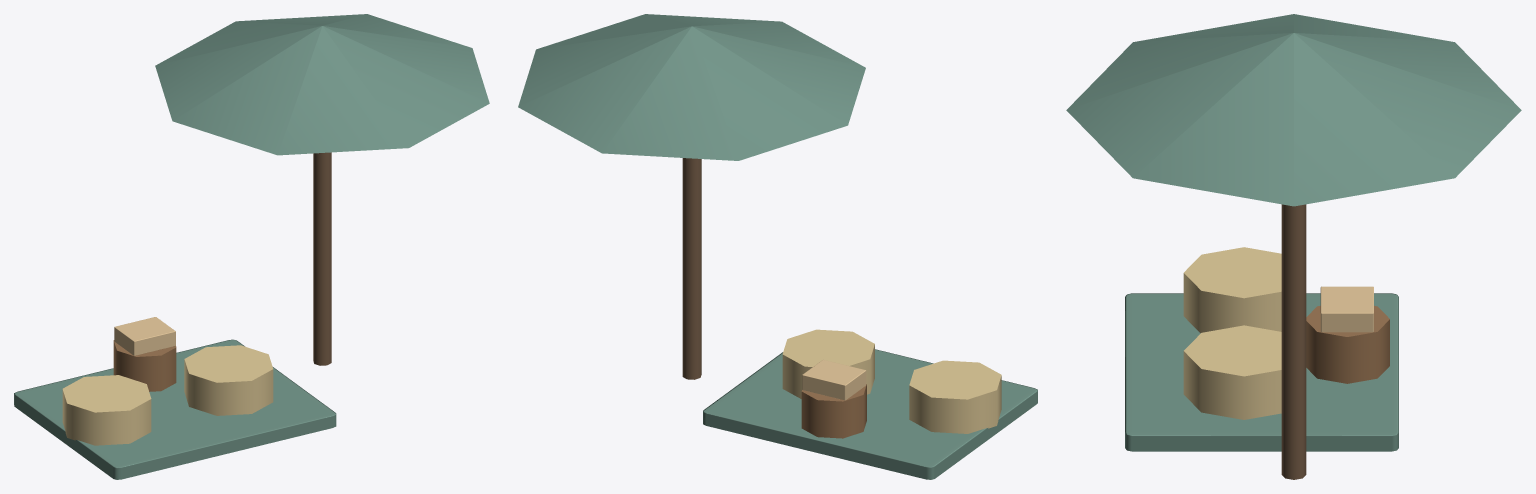
The model's file is summerparasol-1.glb.
3 renders of one model, left to right at view 1: azimuth 30°, elevation 25°; view 2: azimuth 150°, elevation 25°; view 3: azimuth 270°, elevation 25°, orthographic. The views are drawn at different scales.
Parts seen in each view (by area): view 1: summerparasol-1-0; view 2: summerparasol-1-0; view 3: summerparasol-1-0.
Part boxes in pixels (left/top/right/bottom): summerparasol-1-0: left=14, top=14, right=489, bottom=479; summerparasol-1-0: left=518, top=14, right=1037, bottom=479; summerparasol-1-0: left=1066, top=14, right=1521, bottom=479.
Size of the model in its own units: 1.81 by 1.39 by 1.28.
